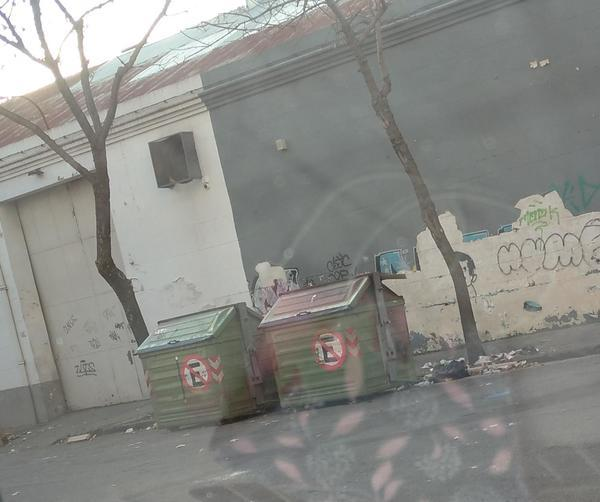Dechets: (422, 350, 527, 382), (65, 432, 95, 444)
Trash: (258, 273, 413, 408), (137, 303, 277, 428)
